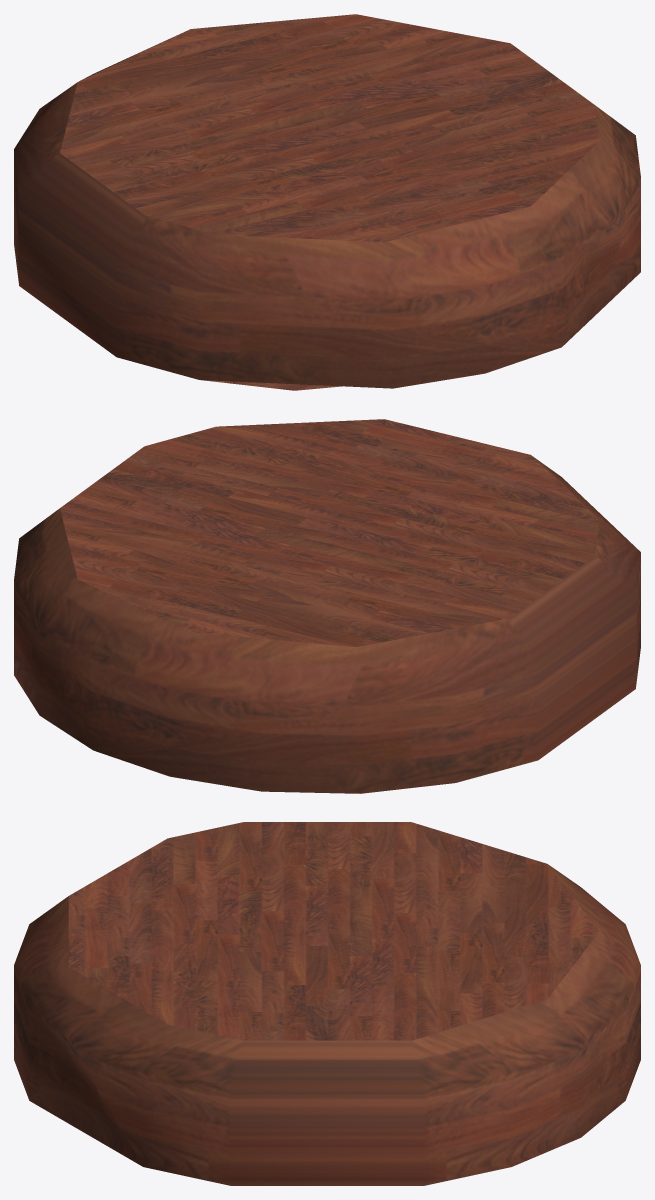
The model's file is Paper Weight_lod3.fbx.
3 renders of one model, top to bottom at view 1: azimuth 30°, elevation 25°; view 2: azimuth 150°, elevation 25°; view 3: azimuth 270°, elevation 25°, orthographic.
Visible parts, largest first — view 1: Paper_Weight; view 2: Paper_Weight; view 3: Paper_Weight.
Boxes of the visible parts, x1,y1,x2,y2 form: Paper_Weight: (14, 14, 640, 390); Paper_Weight: (14, 419, 640, 793); Paper_Weight: (14, 822, 640, 1185).
Bounding box in the file's own units: 2.85 × 0.678 × 3.
